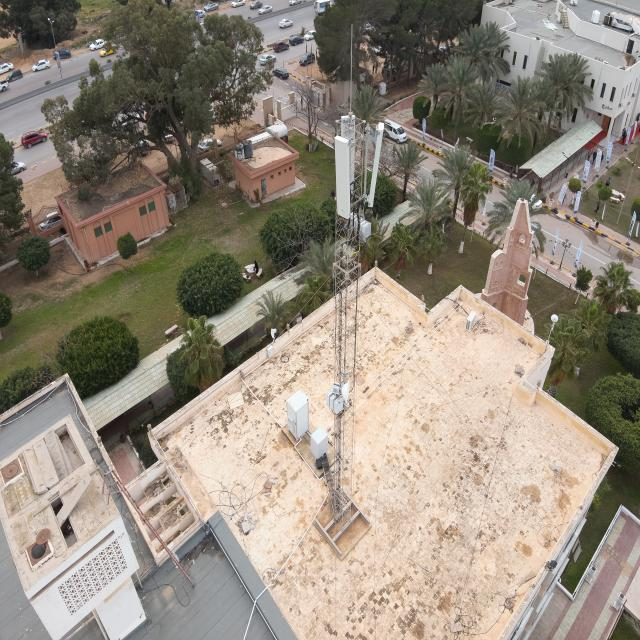antenna: (333, 135, 357, 220), (368, 122, 386, 208), (340, 114, 357, 195)
lighnig-rad: (349, 22, 353, 114)
microware-dish: (332, 381, 351, 404)
power-box: (324, 386, 346, 415)
radio-unit: (348, 210, 372, 242)
